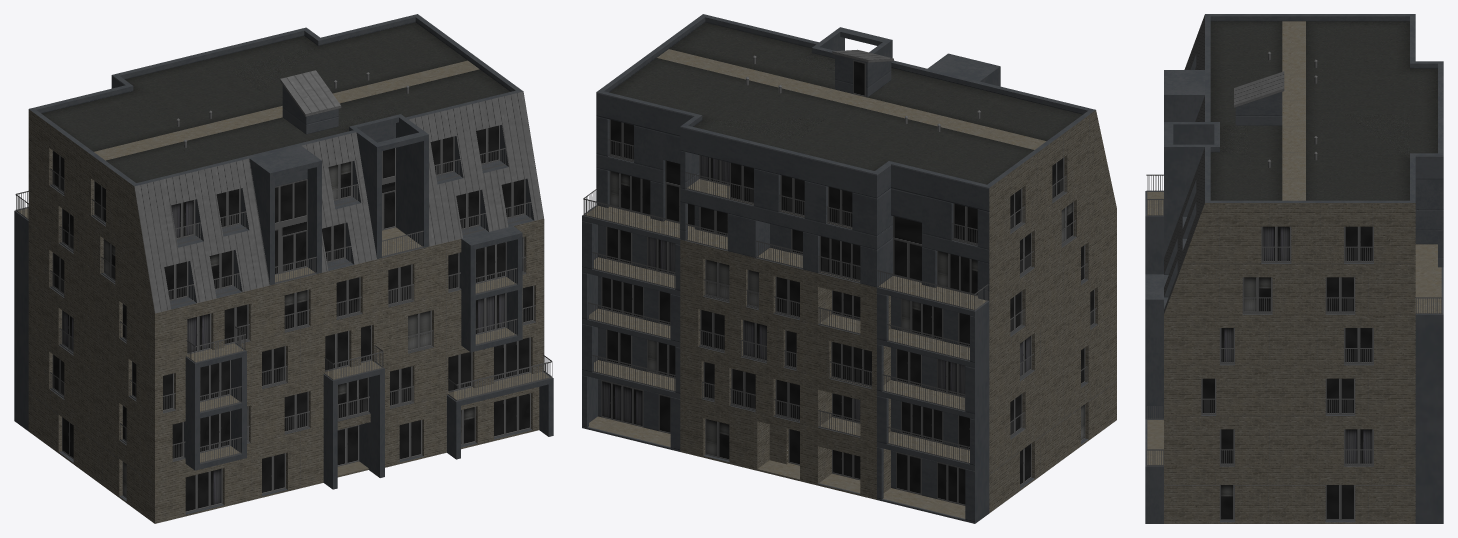
The model's file is modern_mid-rise_flats.glb.
The picture shows the model from 3 angles, left to right: view 1: azimuth 30°, elevation 25°; view 2: azimuth 150°, elevation 25°; view 3: azimuth 270°, elevation 25°; orthographic projection.
Visible parts, largest first — view 1: growable; view 2: growable; view 3: growable.
Boxes of the visible parts, x1=… form: growable: x1=14, y1=14, x2=553, y2=523; growable: x1=582, y1=14, x2=1116, y2=523; growable: x1=1145, y1=14, x2=1443, y2=523.
Bounding box in the file's own units: 24 × 20.95 × 16.
1 material, 1 textured.
